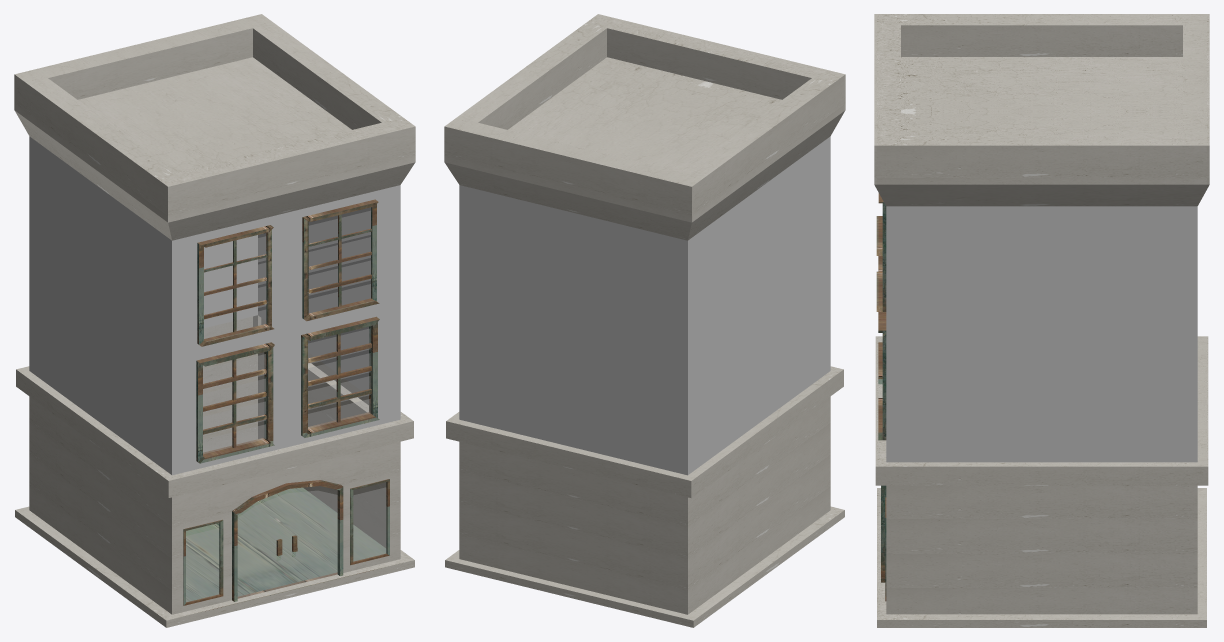
Rendered from Commercial_med.fbx.
3 views of the same model, side by side, from view 1: azimuth 30°, elevation 25°; view 2: azimuth 150°, elevation 25°; view 3: azimuth 270°, elevation 25° (orthographic). The views are drawn at different scales.
Parts seen in each view (by area): view 1: Cube, Cube.001; view 2: Cube; view 3: Cube.
Part boxes in pixels (<box>): Cube: <box>14,14,415,627</box>; Cube.001: <box>186,211,385,601</box>; Cube: <box>444,14,845,627</box>; Cube: <box>874,14,1209,627</box>.
Size of the model in its own units: 758 by 1289 by 813.
